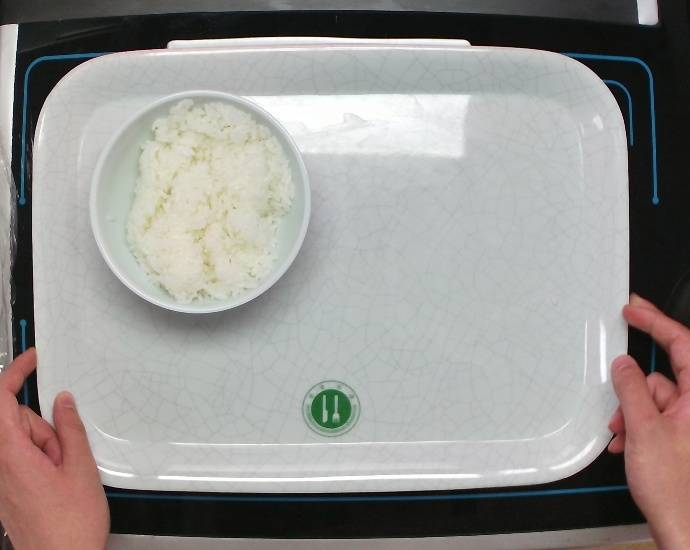JYsf-Fan_Wan: (87, 87, 312, 316)
